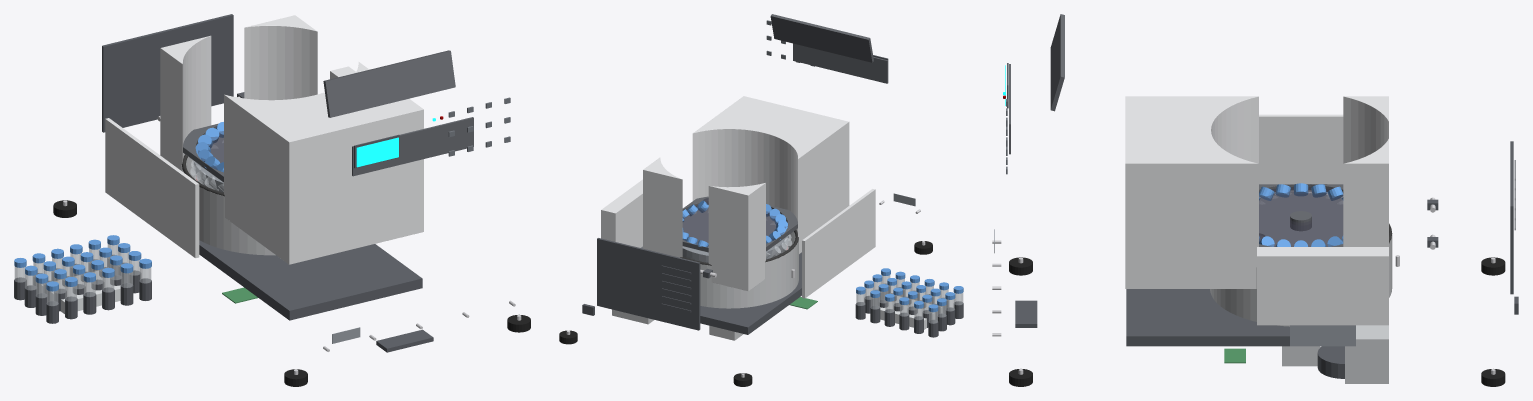
File: centrifuge_assembly.glb
3 views of the same model, side by side, from view 1: azimuth 30°, elevation 25°; view 2: azimuth 150°, elevation 25°; view 3: azimuth 270°, elevation 25° (orthographic). The views are drawn at different scales.
Visible parts, largest first — view 1: A01_MainUpperHousing, A02_LowerBaseTub, A04_RearPanel, A05_SideMolding_L, A03_FrontControlBezel, E01_Faceplate, C01_ChamberBowl, E03_LCD_Display, R01_TubeRackBody, E18_CondensationWaterTray, B01_LidFrame, D02_RotorLid; view 2: A01_MainUpperHousing, A04_RearPanel, A05_SideMolding_L, C01_ChamberBowl, A03_FrontControlBezel, A06_SideMolding_R, A02_LowerBaseTub, E01_Faceplate, D02_RotorLid, B02_Viewport, B01_LidFrame, R01_TubeRackBody; view 3: A01_MainUpperHousing, A06_SideMolding_R, A02_LowerBaseTub, A05_SideMolding_L, B02_Viewport, D02_RotorLid, F09_Compressor, F10_Condenser, C01_ChamberBowl, A03_FrontControlBezel, F08_Fan, F01_MotorHousing (+2 smaller).
Part boxes in pixels (x1=…): A01_MainUpperHousing: x1=160, y1=15, x2=423, y2=264; A02_LowerBaseTub: x1=199, y1=240, x2=422, y2=320; A04_RearPanel: x1=102, y1=14, x2=233, y2=132; A05_SideMolding_L: x1=105, y1=118, x2=199, y2=258; A03_FrontControlBezel: x1=323, y1=50, x2=455, y2=117; E01_Faceplate: x1=352, y1=117, x2=473, y2=176; C01_ChamberBowl: x1=181, y1=156, x2=275, y2=255; E03_LCD_Display: x1=356, y1=137, x2=398, y2=167; R01_TubeRackBody: x1=41, y1=271, x2=120, y2=313; E18_CondensationWaterTray: x1=376, y1=329, x2=433, y2=352; B01_LidFrame: x1=183, y1=123, x2=223, y2=182; D02_RotorLid: x1=193, y1=137, x2=223, y2=190; A01_MainUpperHousing: x1=643, y1=96, x2=849, y2=291; A04_RearPanel: x1=597, y1=238, x2=700, y2=330; A05_SideMolding_L: x1=802, y1=189, x2=875, y2=298; C01_ChamberBowl: x1=700, y1=231, x2=798, y2=308; A03_FrontControlBezel: x1=770, y1=14, x2=873, y2=62; A06_SideMolding_R: x1=601, y1=179, x2=642, y2=247; A02_LowerBaseTub: x1=700, y1=252, x2=801, y2=334; E01_Faceplate: x1=793, y1=43, x2=888, y2=83; D02_RotorLid: x1=682, y1=208, x2=789, y2=261; B02_Viewport: x1=682, y1=203, x2=785, y2=247; B01_LidFrame: x1=682, y1=196, x2=797, y2=252; R01_TubeRackBody: x1=880, y1=296, x2=942, y2=329; A01_MainUpperHousing: x1=1125, y1=96, x2=1388, y2=288; A06_SideMolding_R: x1=1257, y1=247, x2=1388, y2=325; A02_LowerBaseTub: x1=1126, y1=289, x2=1289, y2=346; A05_SideMolding_L: x1=1259, y1=114, x2=1343, y2=191; B02_Viewport: x1=1259, y1=186, x2=1343, y2=246; D02_RotorLid: x1=1259, y1=193, x2=1342, y2=246; F09_Compressor: x1=1345, y1=325, x2=1388, y2=383; F10_Condenser: x1=1290, y1=325, x2=1355, y2=346; C01_ChamberBowl: x1=1210, y1=230, x2=1392, y2=326; A03_FrontControlBezel: x1=1050, y1=14, x2=1064, y2=111; F08_Fan: x1=1317, y1=346, x2=1344, y2=378; F01_MotorHousing: x1=1282, y1=346, x2=1320, y2=366.
Size of the model in its own units: 412 by 314 by 479.
